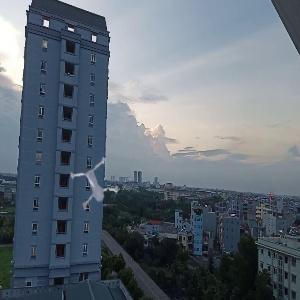drone: (58, 151, 136, 229)
